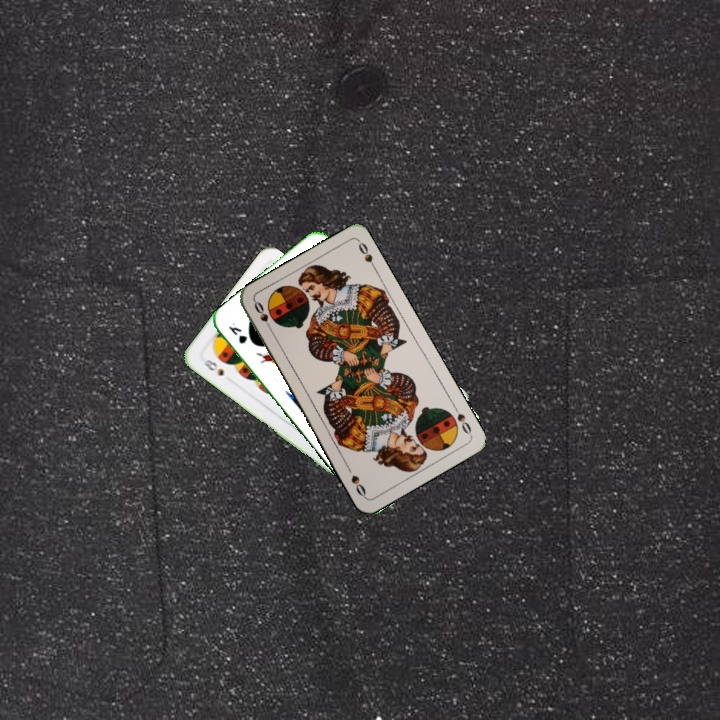GK: (224, 318, 250, 347)
S8: (200, 355, 227, 379)
SO: (250, 297, 275, 335), (449, 401, 474, 438)
